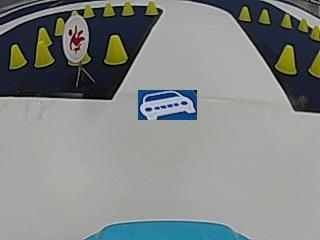cone: (275, 44, 297, 77), (105, 34, 129, 64), (35, 40, 53, 68), (8, 43, 26, 67), (308, 49, 319, 79), (238, 6, 251, 22), (259, 8, 270, 26), (55, 18, 65, 37), (82, 4, 94, 18), (103, 2, 114, 17), (123, 2, 134, 17), (311, 21, 319, 41), (146, 3, 159, 15), (281, 14, 292, 28), (299, 19, 307, 32)
tumble: (64, 17, 88, 55)
